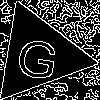G: (14, 29, 62, 81)
